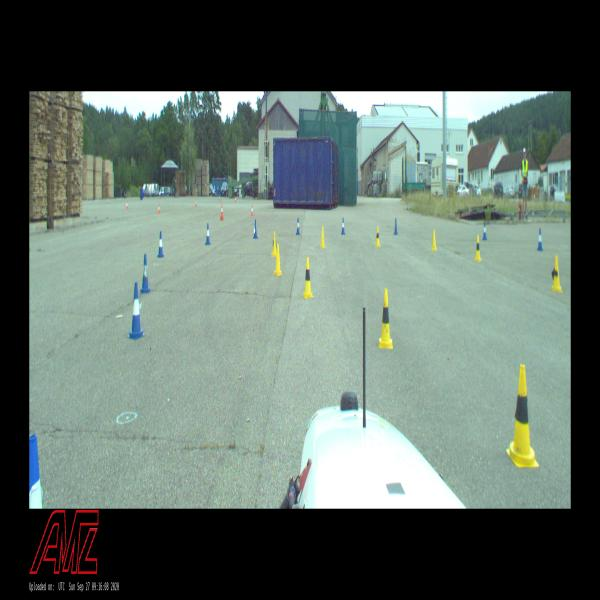blue_cone: (29, 436, 53, 508), (128, 283, 145, 339), (140, 255, 150, 293), (157, 231, 164, 257), (205, 223, 211, 245), (537, 228, 543, 250), (253, 220, 258, 239), (482, 222, 487, 239), (296, 217, 300, 236), (341, 216, 345, 235), (394, 218, 398, 235)
orange_cone: (220, 203, 224, 220), (251, 205, 253, 216), (158, 203, 160, 214), (126, 201, 128, 209), (195, 199, 197, 206), (219, 195, 221, 202), (234, 197, 236, 203)
yellow_cone: (506, 365, 538, 466), (379, 289, 393, 348), (302, 257, 314, 298), (552, 255, 562, 292), (274, 243, 282, 275), (474, 235, 482, 261), (271, 231, 277, 257), (432, 229, 438, 251), (320, 225, 325, 248), (375, 226, 380, 246)
